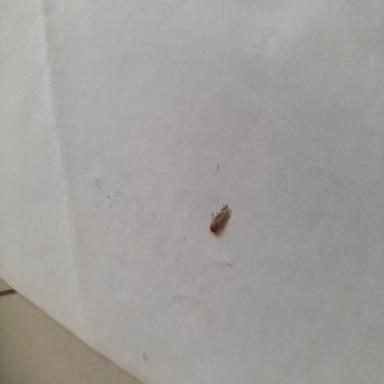pbw: (208, 202, 229, 234)
